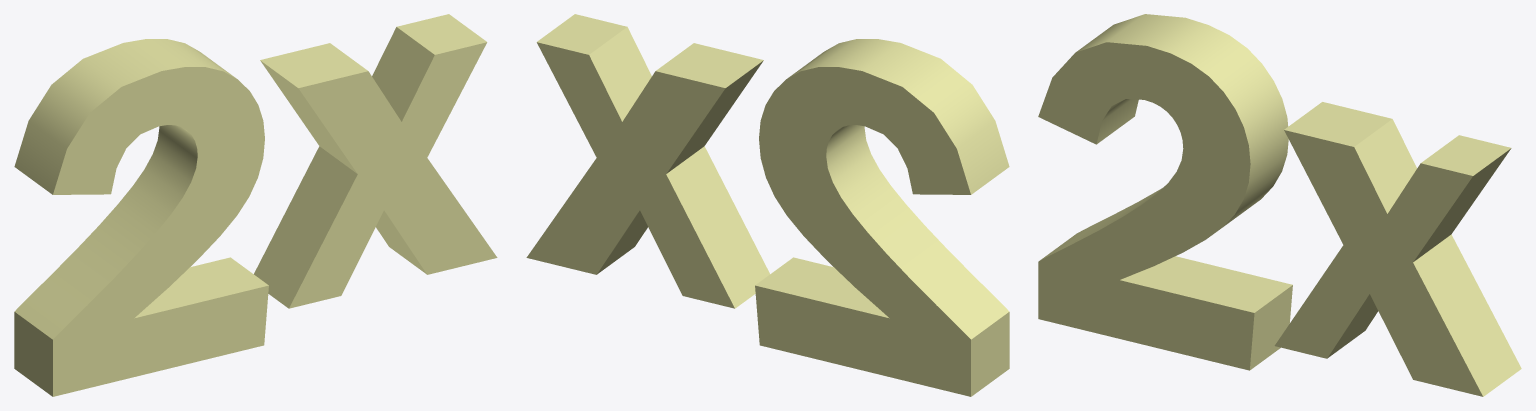
Rendered from TwoX_MDL.fbx.
3 views of the same model, side by side, from view 1: azimuth 30°, elevation 25°; view 2: azimuth 150°, elevation 25°; view 3: azimuth 330°, elevation 25° (orthographic).
Parts seen in each view (by area): view 1: TwoX_GEO; view 2: TwoX_GEO; view 3: TwoX_GEO.
Part boxes in pixels (x1,y1,x2,y2): TwoX_GEO: (14, 14, 497, 396); TwoX_GEO: (526, 14, 1009, 396); TwoX_GEO: (1038, 14, 1521, 396).
Size of the model in its own units: 78.14 by 50.27 by 11.7.
